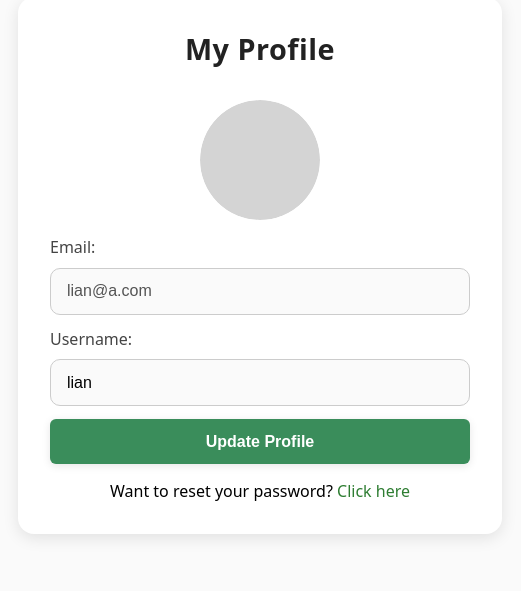
Test: Profile page › updates username
Replace the text in the 2nd field showing "lian" with "newname" at {"x": 260, "y": 383}, box [50,359,470,406]
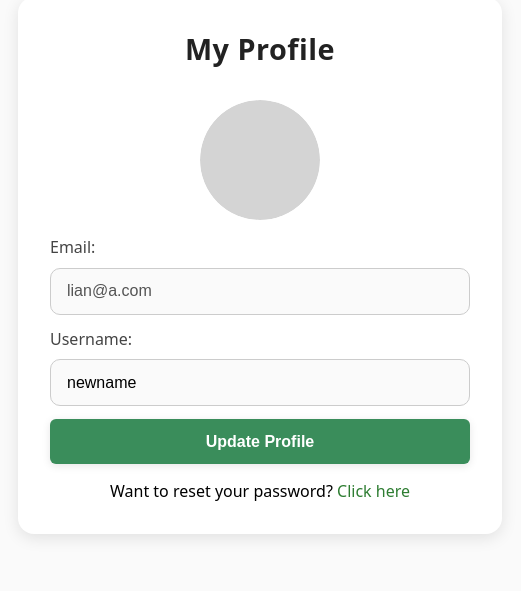
Click the button "Update Profile".
click(260, 442)  # box [50,419,470,464]
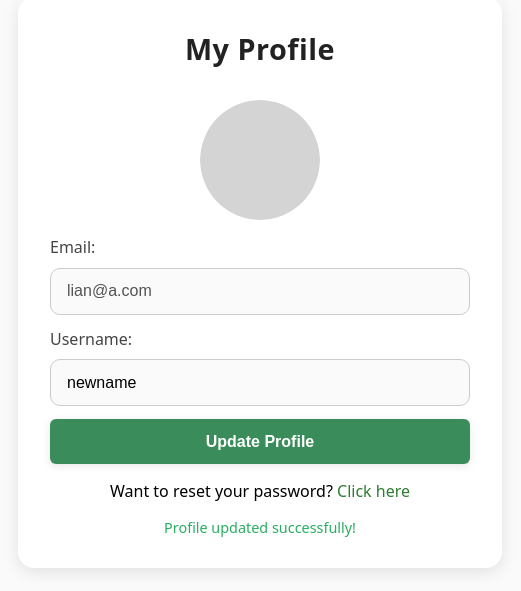
Expected: the text "Profile updated successfully!" is shown, [164,518,356,537]
